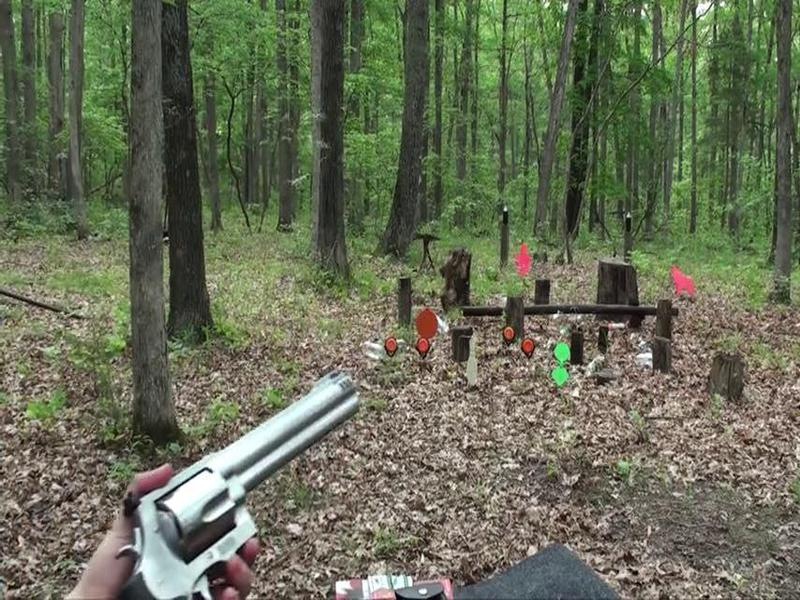Revolver: (117, 363, 377, 569)
